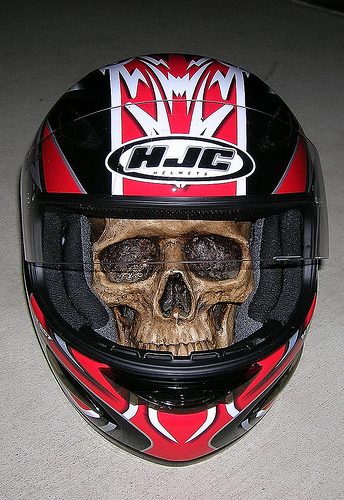helmet: (17, 62, 325, 447)
